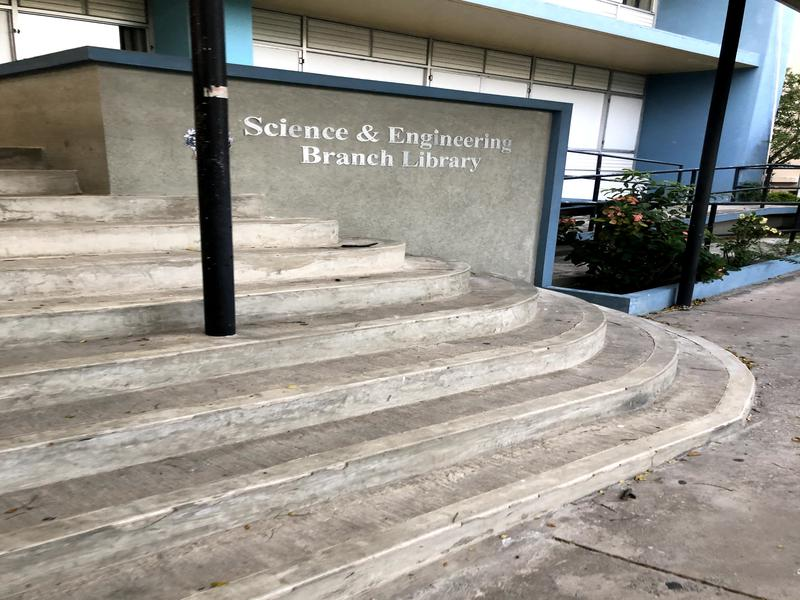18.0053644_-76.7493880_librarysign: (237, 111, 518, 192)
